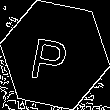P_N: (33, 27, 77, 83)
